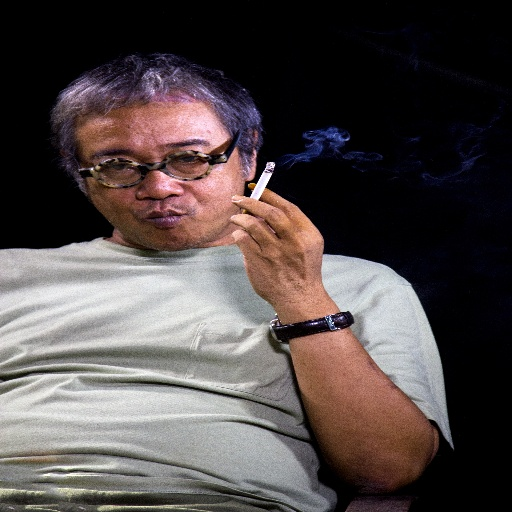hand: (223, 185, 332, 310)
